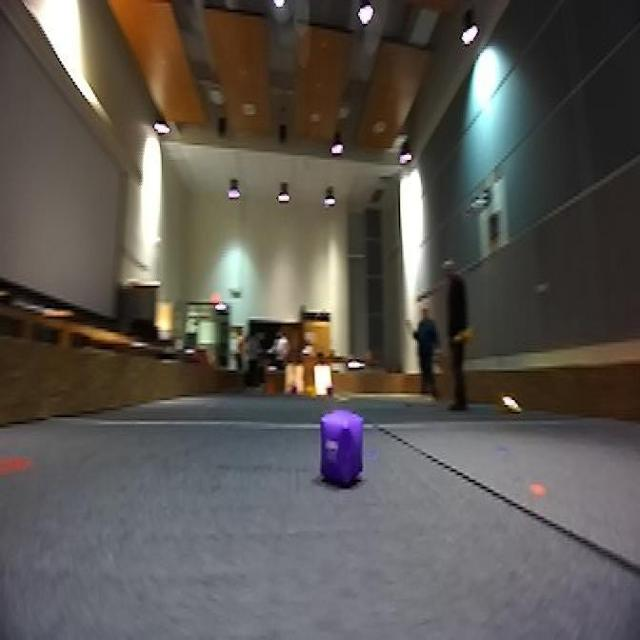frc_cone: (506, 392, 523, 416), (456, 324, 474, 346), (298, 382, 319, 398)
frc_cube: (320, 408, 367, 487), (286, 382, 300, 398), (326, 382, 338, 398)
